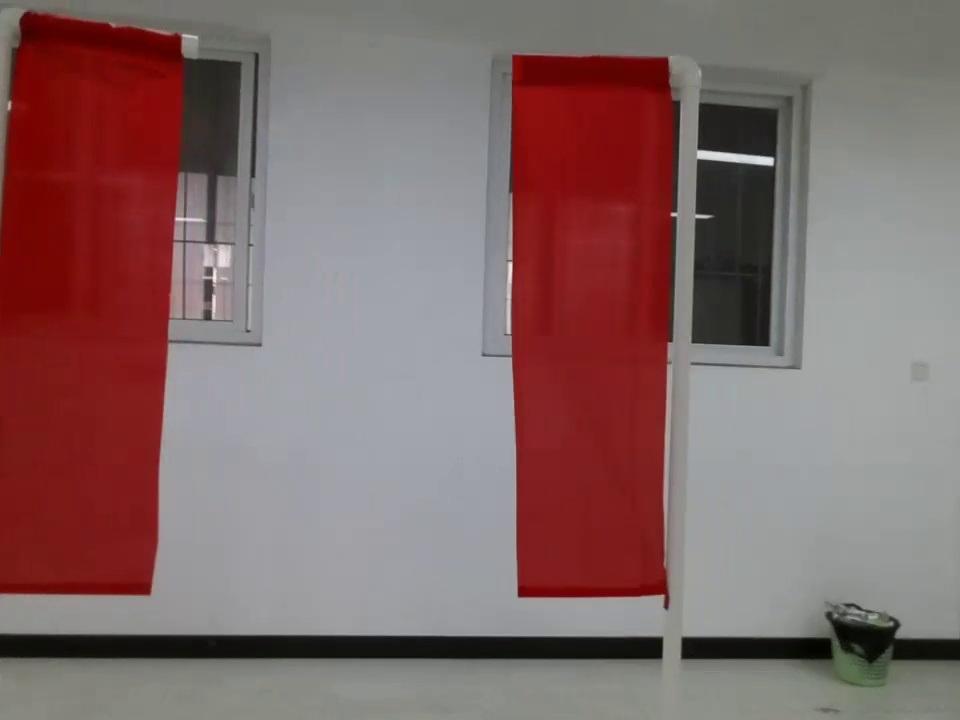qi: (491, 43, 695, 636), (1, 1, 201, 603)
